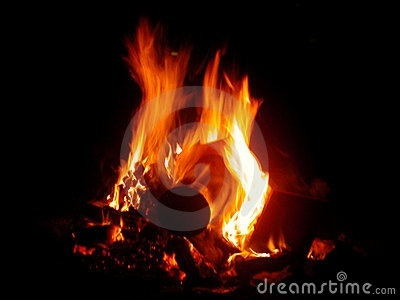fire: (109, 25, 281, 262)
